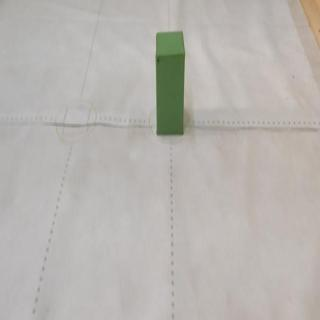greenbox: (155, 32, 184, 133)
